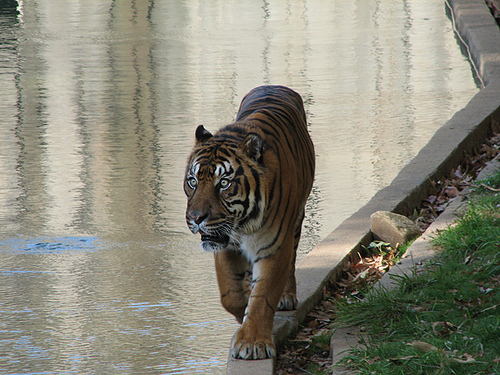Tigre: (156, 71, 339, 352)
